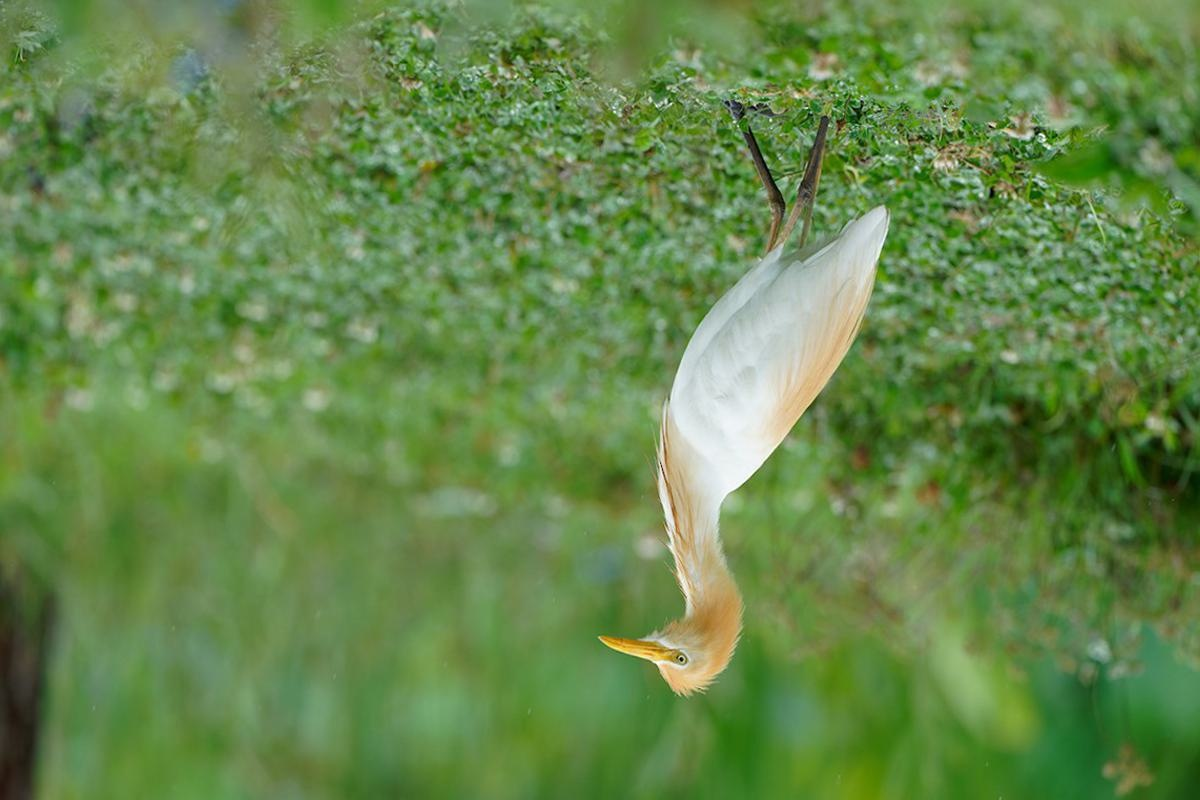egret: (597, 93, 889, 701)
